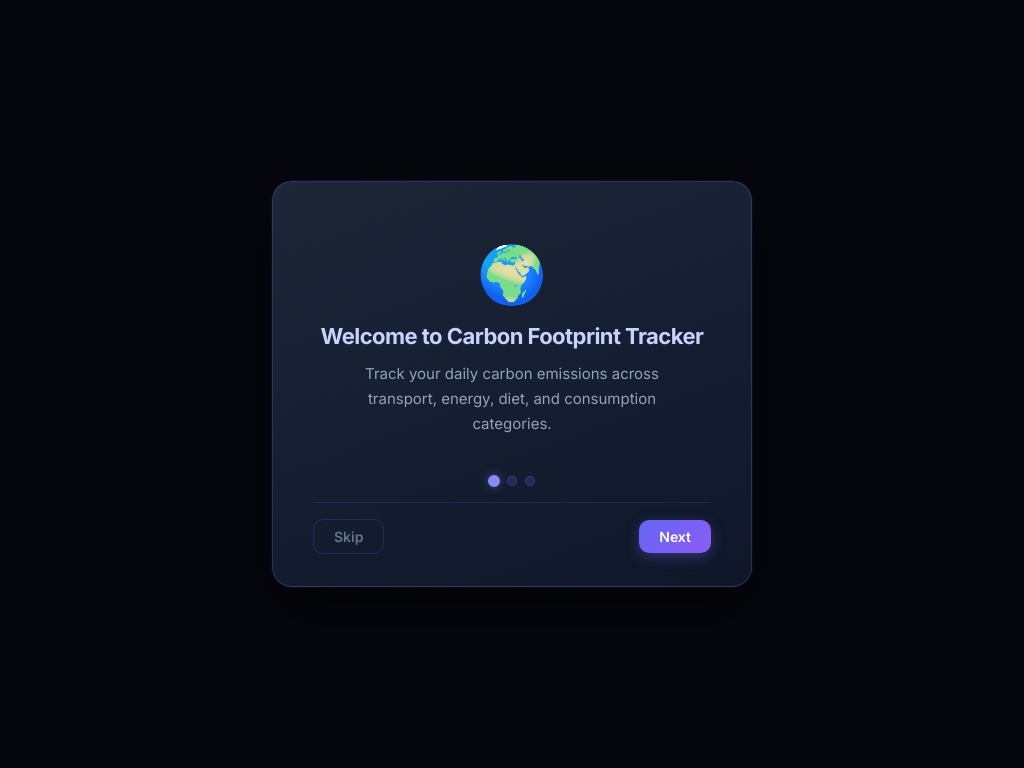
it: OnboardingModal › step navigation › advances to next step on "Next" click
Expected: the heading "Welcome to Carbon Footprint Tracker" is shown, top-left (313, 322), bottom-right (711, 350)
Click the button "Next": [675, 537] box top-left (639, 520), bottom-right (711, 553)
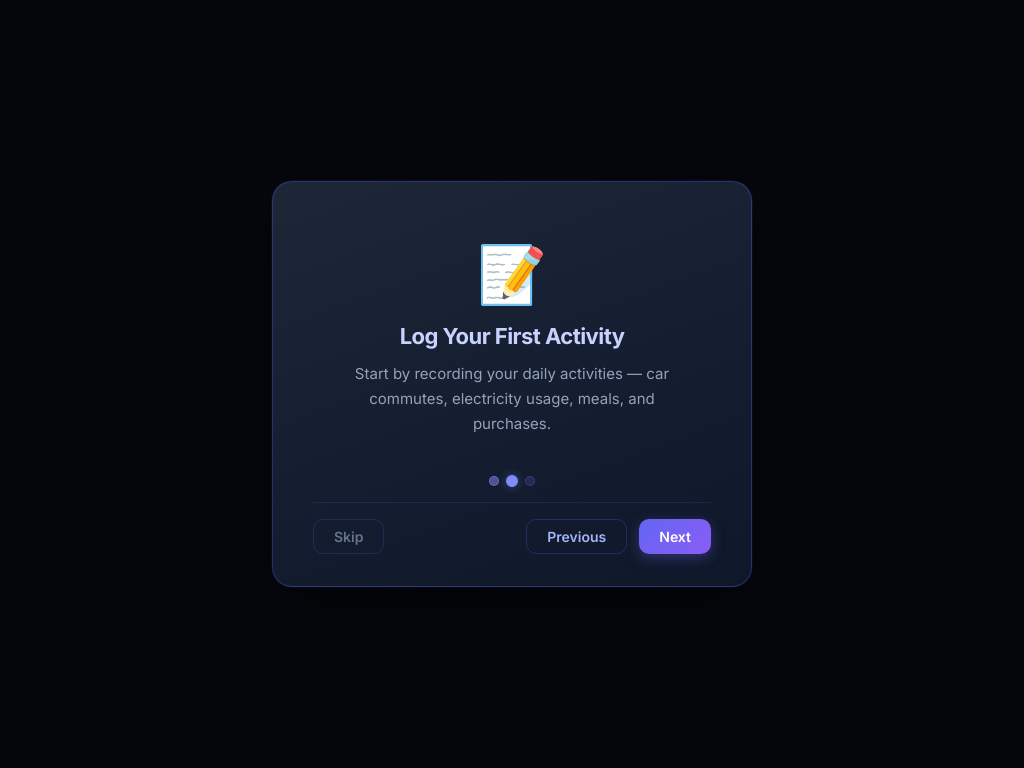
Now the heading "Log Your First Activity" is shown, box top-left (400, 323), bottom-right (624, 349)
Now the heading "Welcome to Carbon Footprint Tracker" is gone
